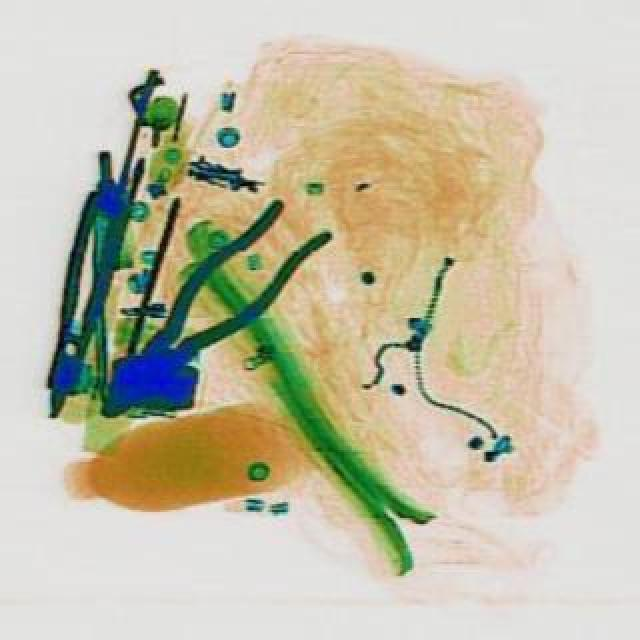wrench: (78, 186, 344, 442)
